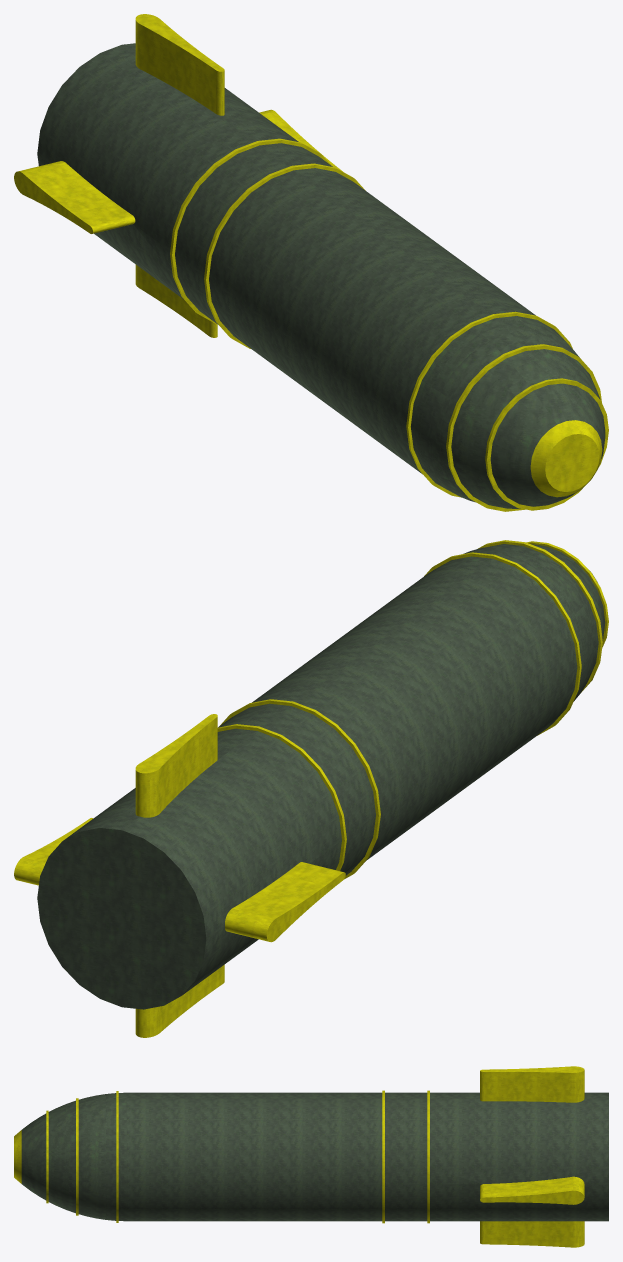
File: rocket.dae
3 views of the same model, one above another, from view 1: azimuth 30°, elevation 25°; view 2: azimuth 150°, elevation 25°; view 3: azimuth 270°, elevation 25° (orthographic). The views are drawn at different scales.
Visible parts, largest first — view 1: Model; view 2: Model; view 3: Model.
Part boxes in pixels (<box>): Model: <box>14,14,608,511</box>; Model: <box>14,540,608,1037</box>; Model: <box>14,1066,608,1247</box>.
Size of the model in its own units: 6755 by 20855 by 6755.
Materials: 4 (3 with a texture image).
